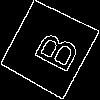B: (24, 24, 81, 75)
